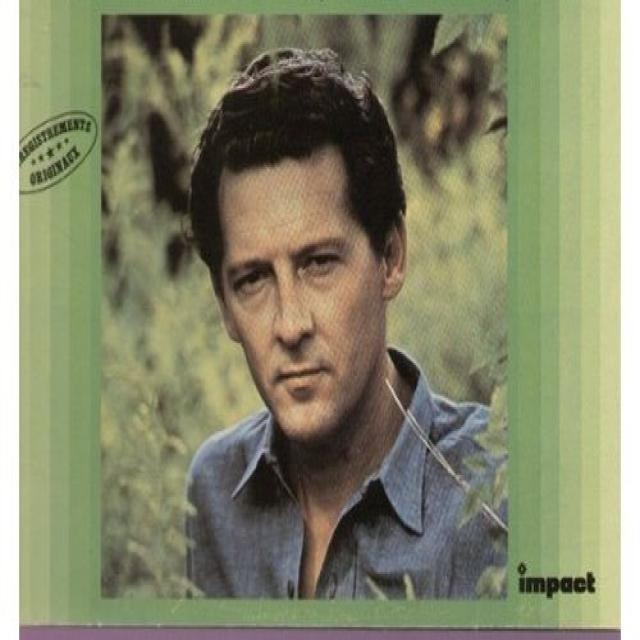human: (178, 41, 510, 602)
